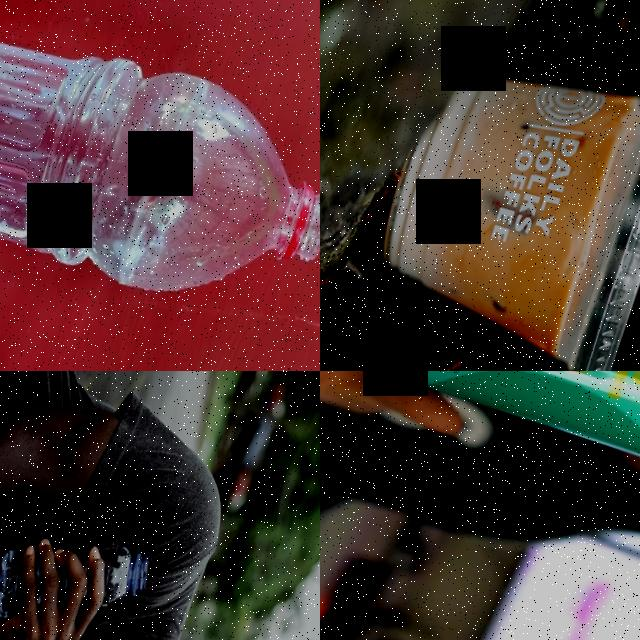bottle: (0, 0, 320, 347), (0, 510, 154, 640)
can: (325, 371, 640, 540)
cup: (347, 3, 640, 371)
